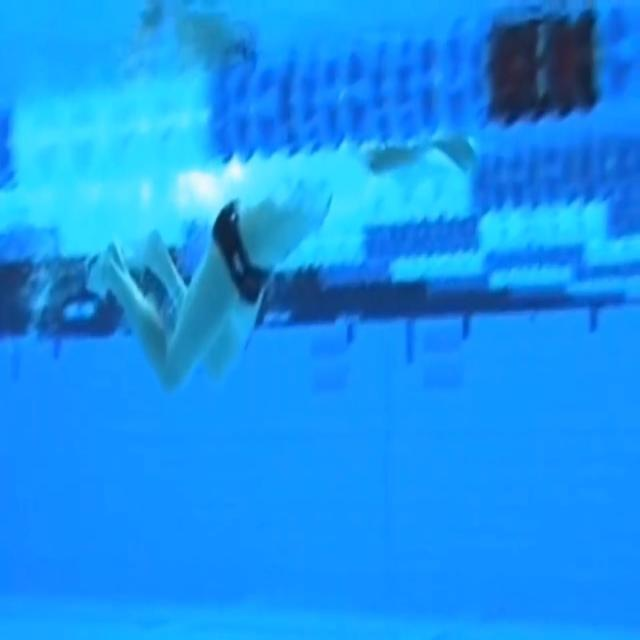Swimming: (87, 183, 337, 394)
